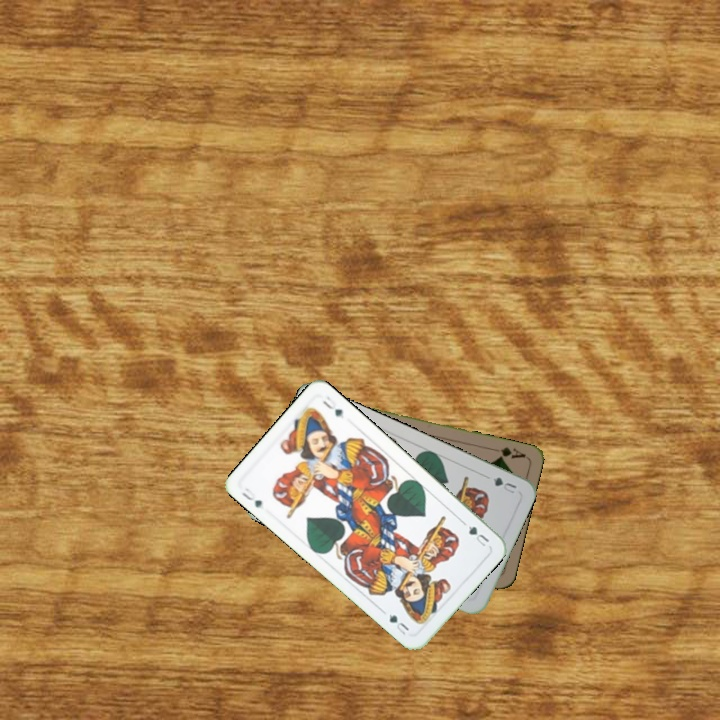GA: (488, 443, 528, 461)
GU: (459, 518, 492, 549), (238, 483, 265, 511), (489, 473, 519, 496)
